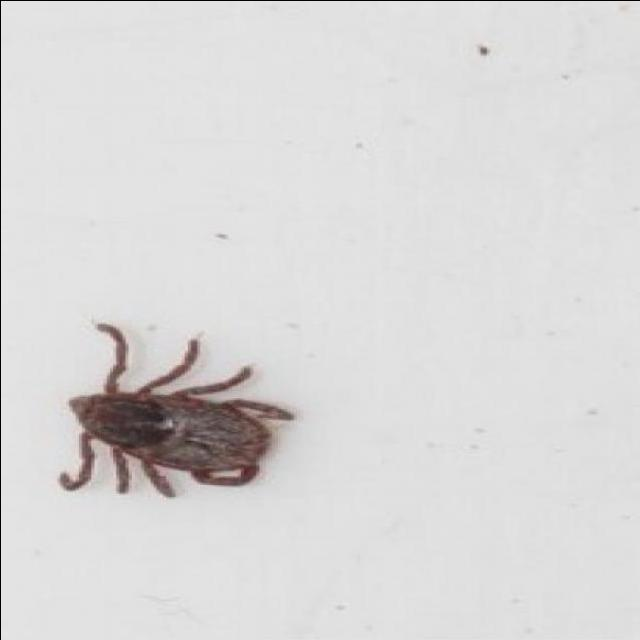Rhipicephalus Sanguineus-F: (59, 321, 296, 497)
